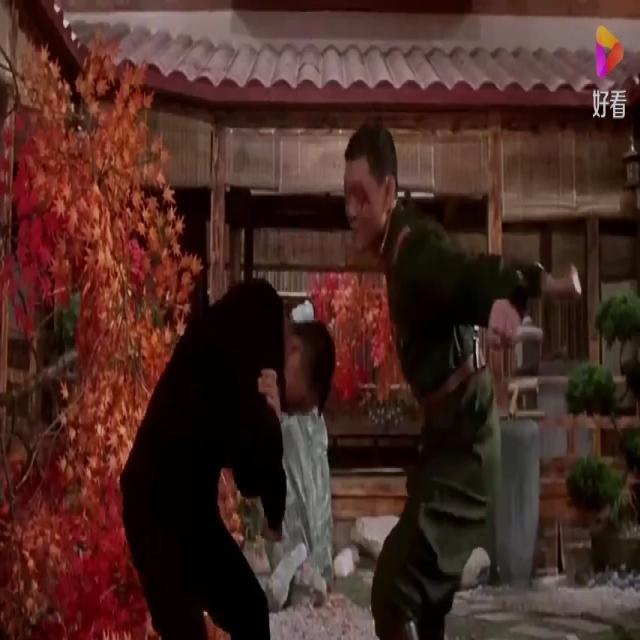fight: (113, 106, 548, 639)
